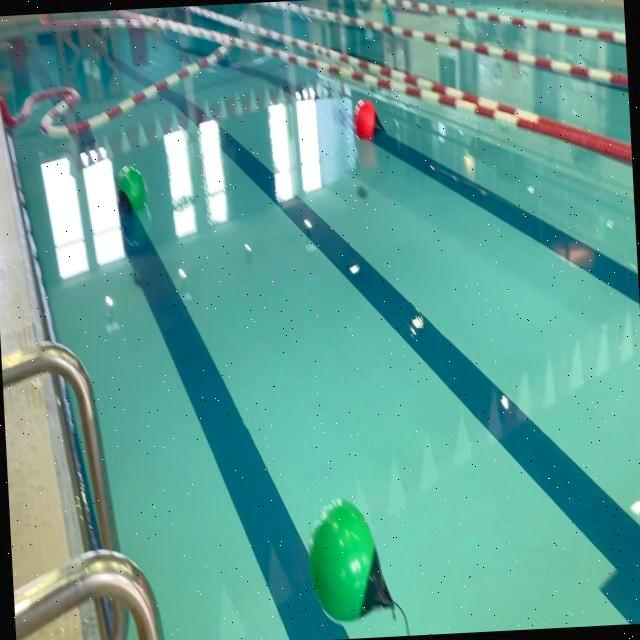buoy: (305, 496, 395, 622), (114, 161, 150, 218), (354, 98, 389, 140)
